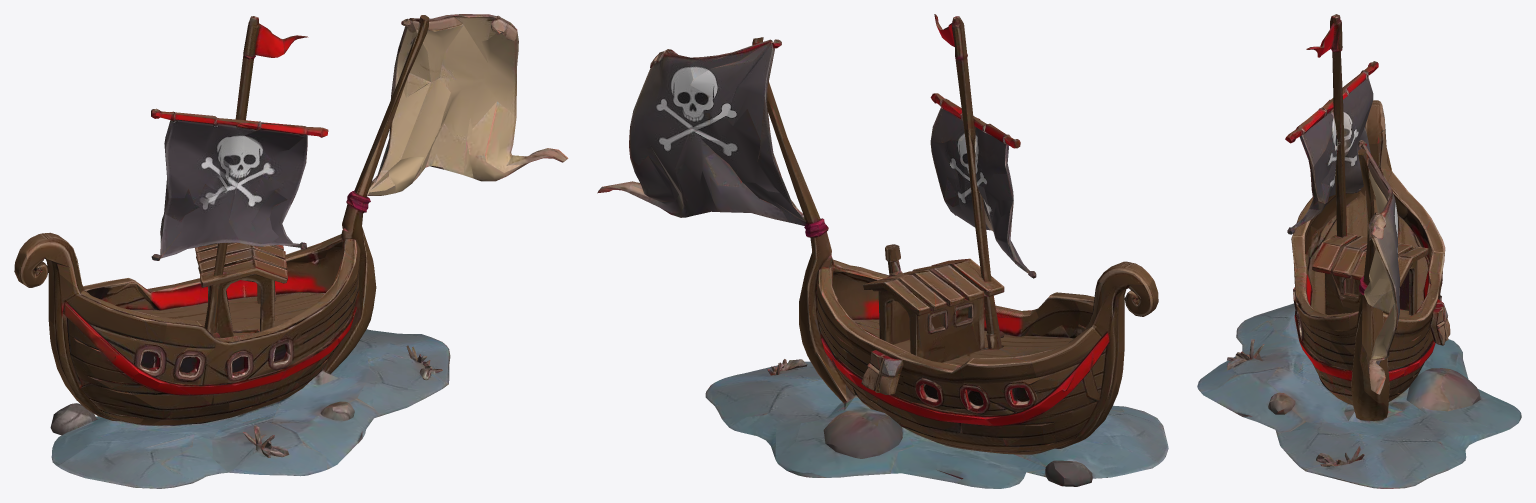
The model's file is ship.glb.
3 views of the same model, side by side, from view 1: azimuth 30°, elevation 25°; view 2: azimuth 150°, elevation 25°; view 3: azimuth 270°, elevation 25° (orthographic). The views are drawn at different scales.
Bounding box in the file's own units: 1.9 × 1.31 × 1.03.
Materials: 1 (1 with a texture image).
